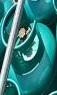cylinder: (1, 1, 57, 95)
